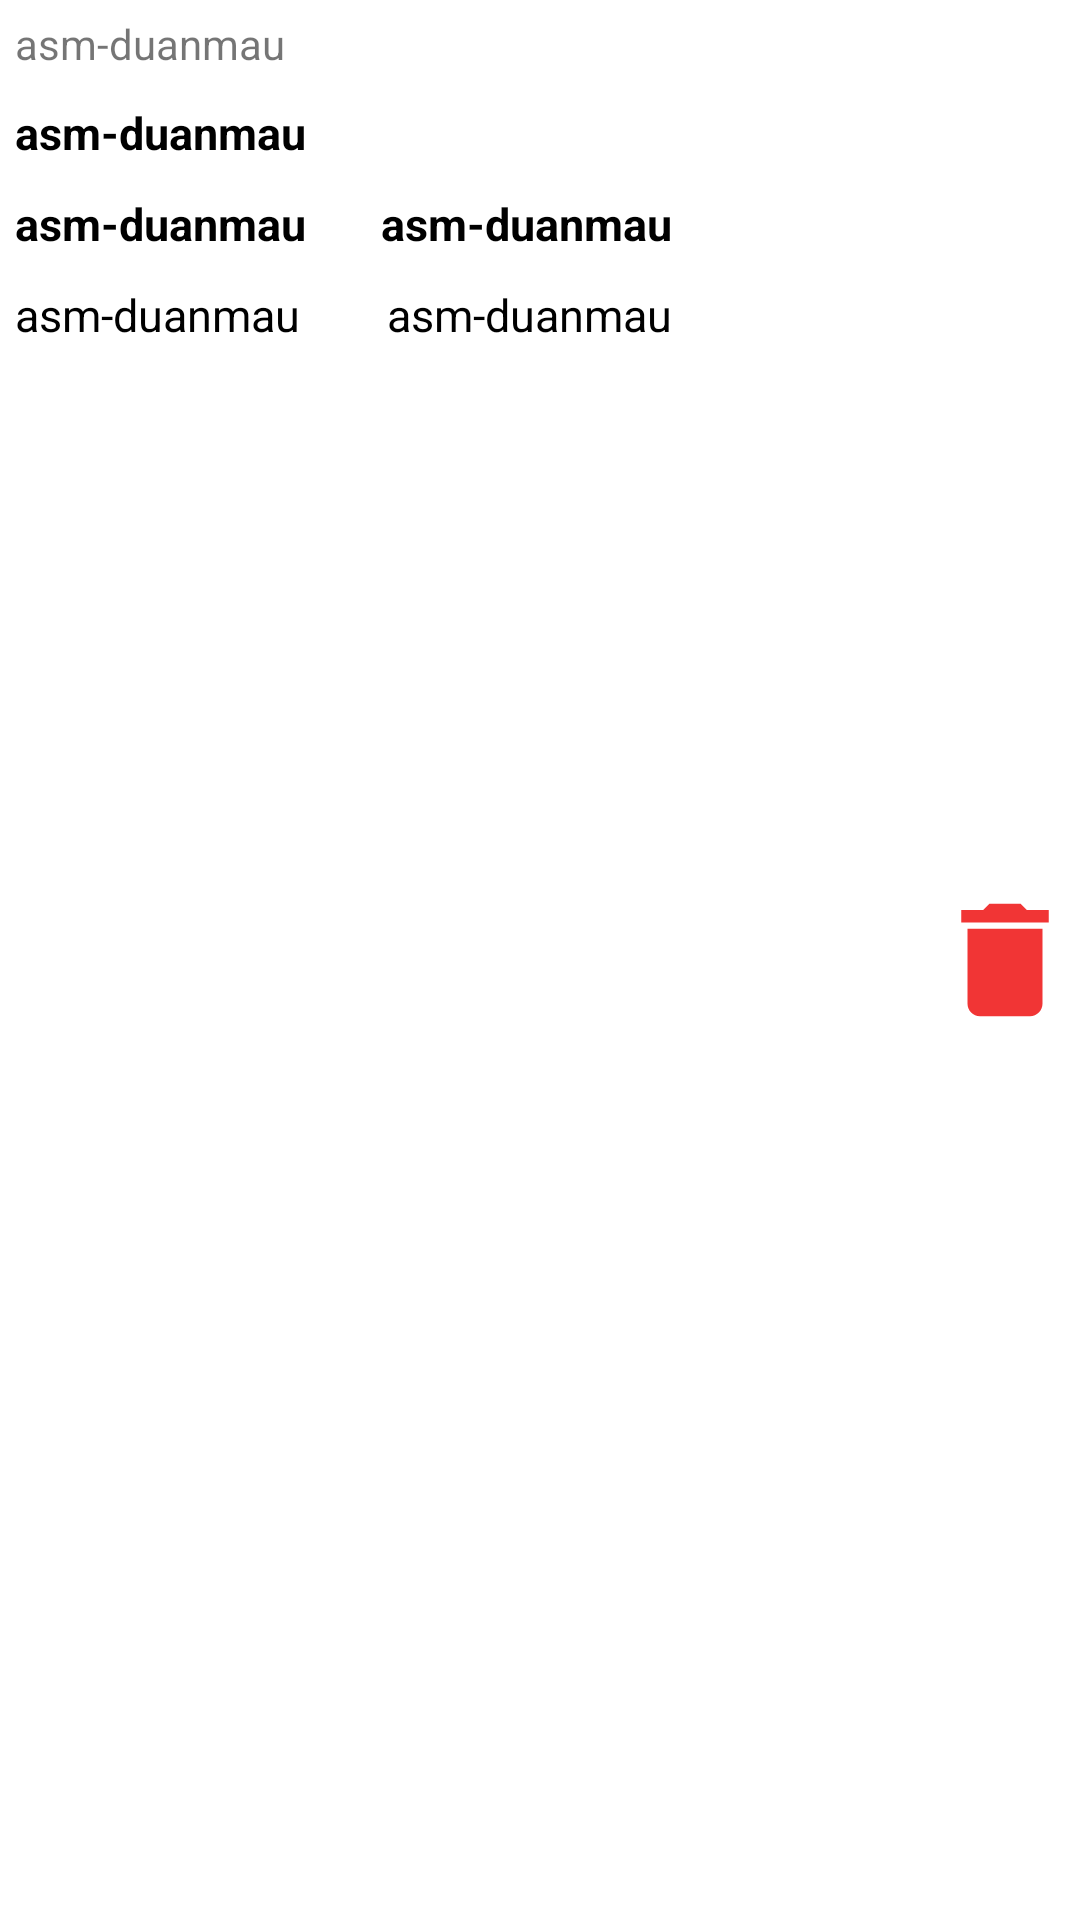

Where to tap for icons on this 1080px x 1920px app screen, as (x,y):
delete: (1005,960)
